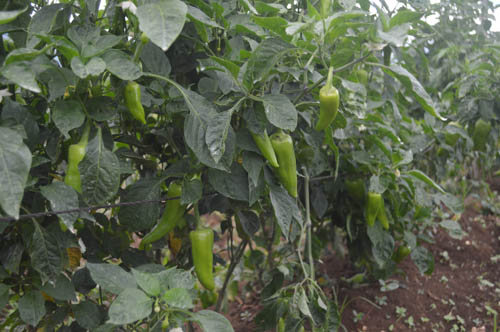ChiliPepper: (134, 182, 185, 252), (268, 137, 302, 196), (309, 84, 343, 138), (188, 232, 217, 294), (55, 145, 88, 189), (118, 82, 148, 123), (250, 132, 279, 168), (364, 194, 379, 228), (345, 183, 367, 206)
